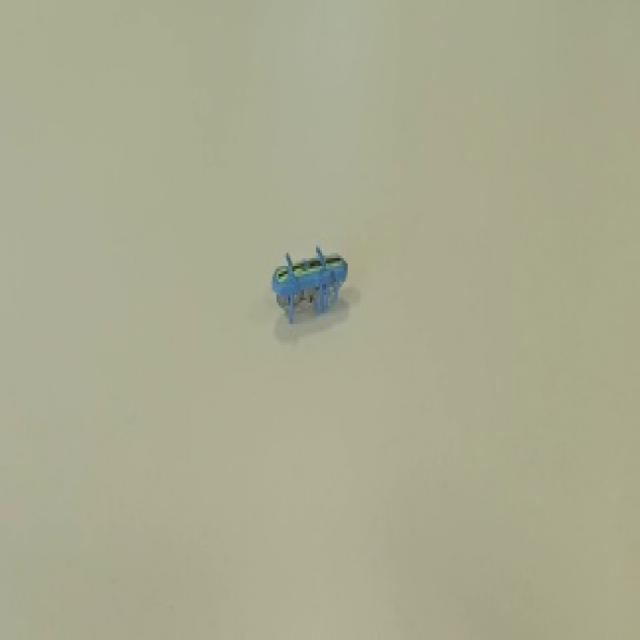3_NanoBug_Celeste: (249, 224, 370, 337)
